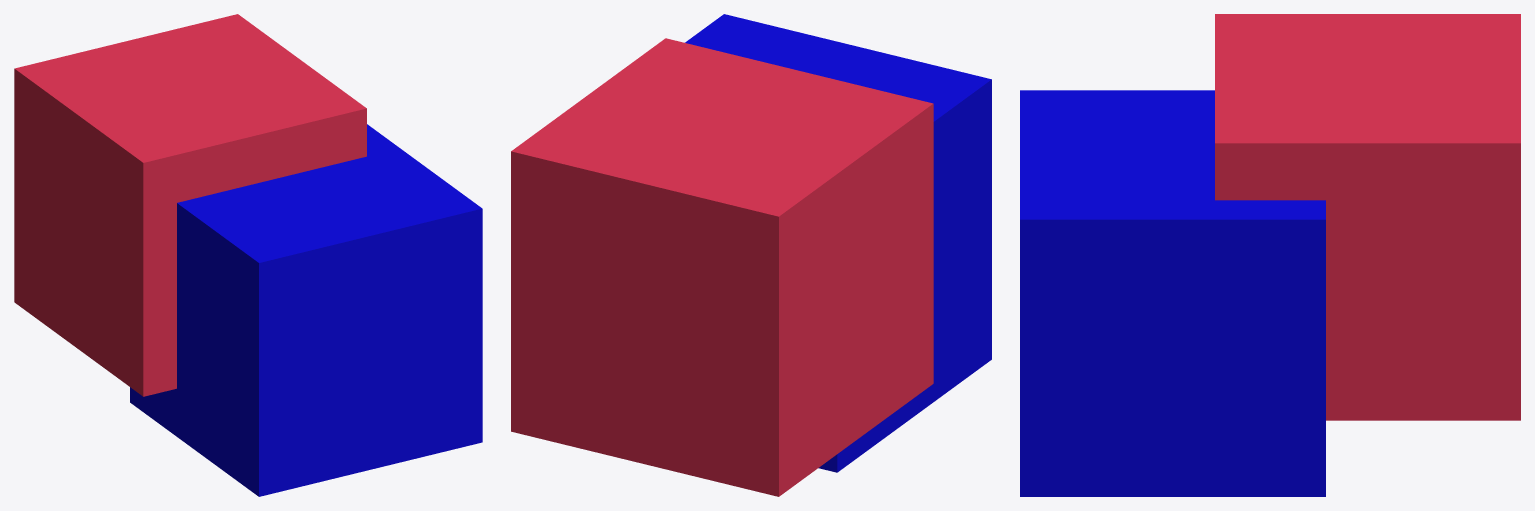
3 renders of one model, left to right at view 1: azimuth 30°, elevation 25°; view 2: azimuth 150°, elevation 25°; view 3: azimuth 270°, elevation 25°, orthographic. The views are drawn at different scales.
Visible parts, largest first — view 1: Cube.001; view 2: Cube.001; view 3: Cube.001.
Boxes of the visible parts, left/top/right/bottom form: Cube.001: left=14, top=14, right=482, bottom=496; Cube.001: left=511, top=14, right=991, bottom=496; Cube.001: left=1020, top=14, right=1520, bottom=496.
Size of the model in its own units: 230 by 241 by 327.
